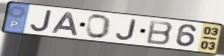6: (175, 23, 198, 48)
A: (51, 12, 80, 37)
B: (145, 19, 175, 46)
J: (30, 9, 54, 33), (115, 18, 138, 41)
O: (85, 13, 113, 40)
